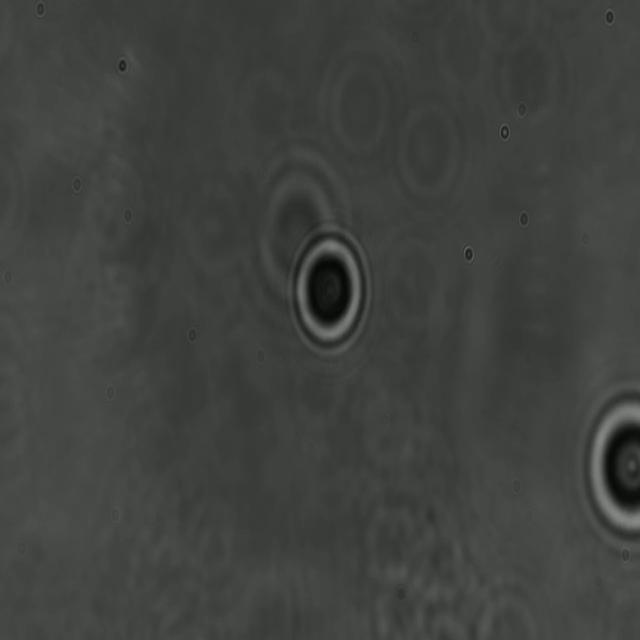DCELL: (283, 213, 377, 363)
